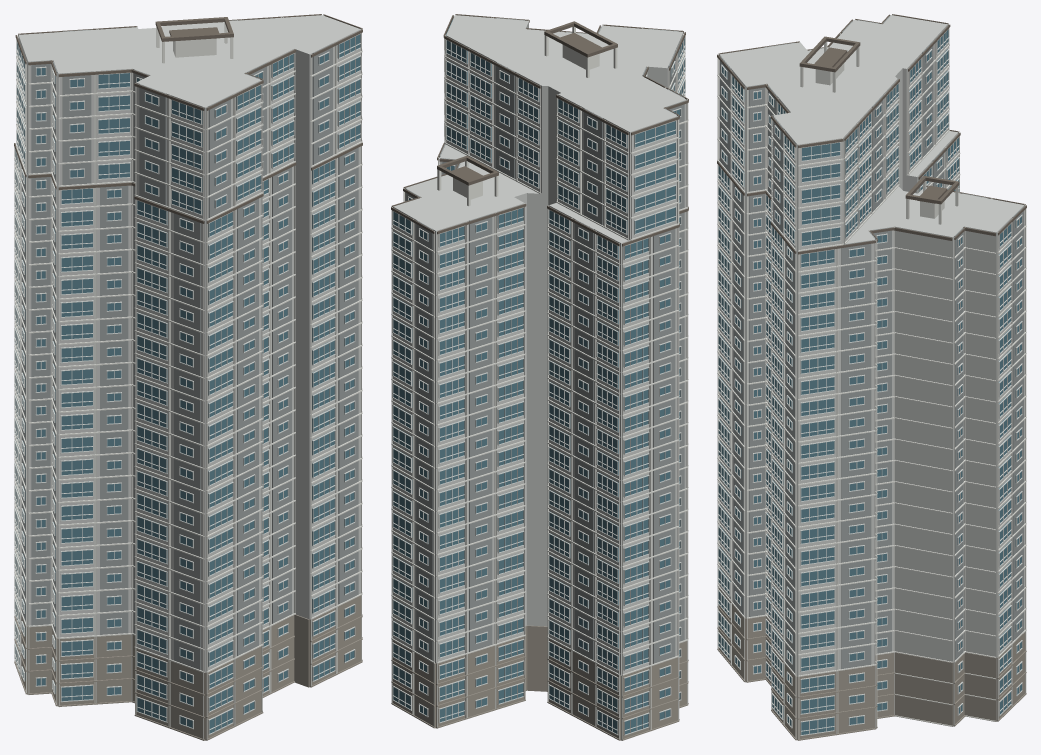
The model's file is bespoke-banpo-xi-140.glb.
The picture shows the model from 3 angles, left to right: view 1: azimuth 30°, elevation 25°; view 2: azimuth 150°, elevation 25°; view 3: azimuth 270°, elevation 25°; orthographic projection. The views are drawn at different scales.
Visible parts, largest first — view 1: editable_BX140_pale_silver_limestone, editable_BX140_grey_service_core, editable_BX140_blue_grey_broad_glazing, editable_BX140_white_window_frames, editable_BX140_ivory_course_bands, editable_BX140_warm_ground_stone, editable_BX140_dark_coping; view 2: editable_BX140_pale_silver_limestone, editable_BX140_blue_grey_broad_glazing, editable_BX140_white_window_frames, editable_BX140_ivory_course_bands, editable_BX140_grey_service_core, editable_BX140_warm_ground_stone, editable_BX140_dark_coping; view 3: editable_BX140_pale_silver_limestone, editable_BX140_grey_service_core, editable_BX140_blue_grey_broad_glazing, editable_BX140_white_window_frames, editable_BX140_ivory_course_bands, editable_BX140_warm_ground_stone, editable_BX140_dark_coping.
Part boxes in pixels (x1,y1,x2,y2): editable_BX140_pale_silver_limestone: (18, 15, 360, 705); editable_BX140_grey_service_core: (22, 20, 358, 670); editable_BX140_blue_grey_broad_glazing: (15, 34, 360, 733); editable_BX140_white_window_frames: (14, 33, 361, 734); editable_BX140_ivory_course_bands: (14, 14, 362, 740); editable_BX140_warm_ground_stone: (14, 595, 362, 740); editable_BX140_dark_coping: (14, 14, 362, 223); editable_BX140_pale_silver_limestone: (393, 15, 686, 739); editable_BX140_blue_grey_broad_glazing: (393, 19, 684, 734); editable_BX140_white_window_frames: (392, 26, 685, 735); editable_BX140_ivory_course_bands: (391, 14, 688, 739); editable_BX140_grey_service_core: (406, 18, 684, 663); editable_BX140_warm_ground_stone: (391, 625, 688, 740); editable_BX140_dark_coping: (391, 14, 688, 246); editable_BX140_pale_silver_limestone: (719, 15, 1024, 739); editable_BX140_grey_service_core: (720, 16, 1023, 673); editable_BX140_blue_grey_broad_glazing: (718, 30, 1021, 734); editable_BX140_white_window_frames: (718, 28, 1022, 735); editable_BX140_ivory_course_bands: (717, 15, 1026, 739); editable_BX140_warm_ground_stone: (717, 588, 1026, 740); editable_BX140_dark_coping: (717, 14, 1026, 254).
Bounding box in the file's own units: 35.86 × 78.5 × 35.61.
